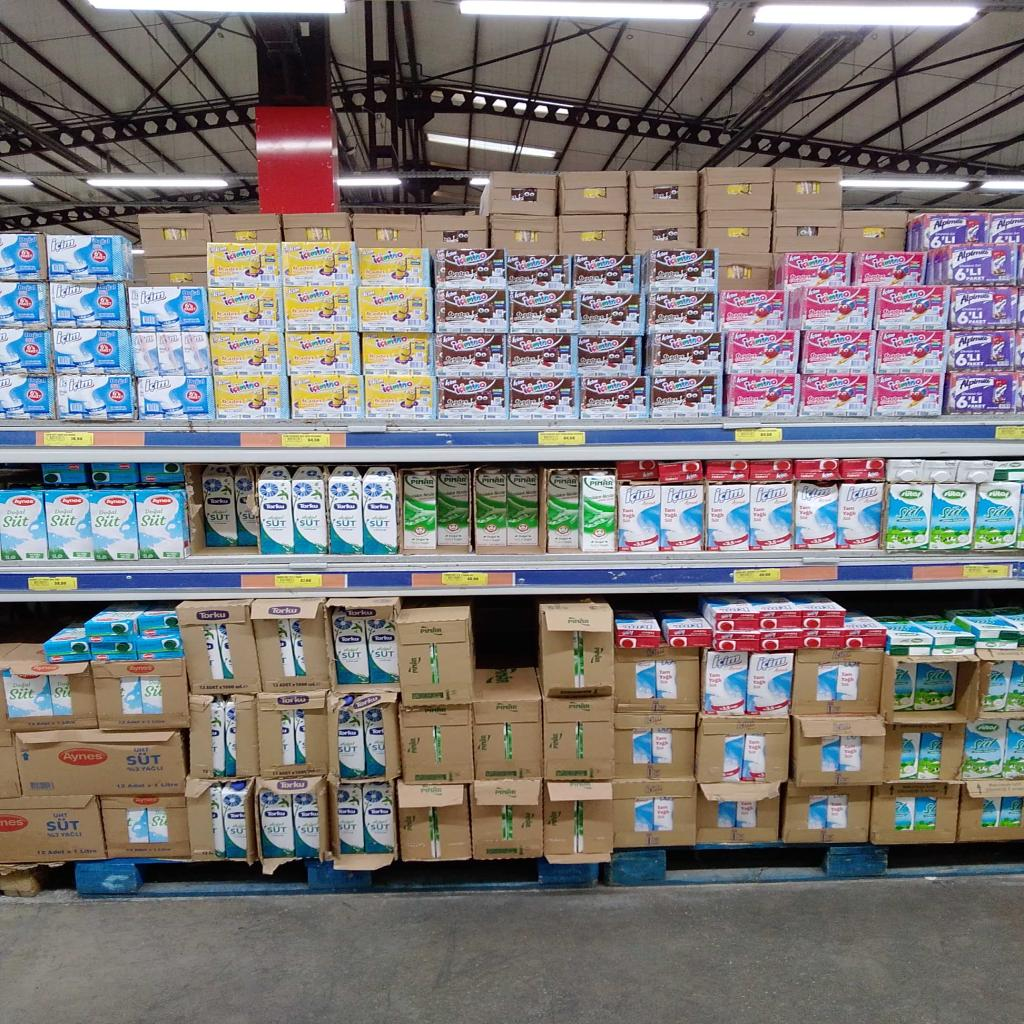price_tag: (733, 568, 781, 583), (282, 433, 330, 448), (43, 432, 94, 446), (538, 431, 585, 446), (28, 577, 77, 591), (964, 564, 1009, 579), (735, 428, 782, 442), (275, 574, 322, 588), (441, 572, 488, 586), (995, 426, 1023, 440)
product: (47, 372, 141, 420), (136, 373, 218, 423), (135, 487, 190, 561), (46, 235, 133, 281), (205, 239, 284, 289), (51, 326, 131, 374), (128, 286, 214, 330), (875, 281, 946, 334), (646, 376, 726, 422), (432, 376, 510, 423), (44, 488, 94, 561), (430, 285, 508, 331), (51, 282, 128, 328), (0, 488, 48, 561), (868, 330, 946, 374), (91, 491, 140, 561), (876, 367, 943, 418), (800, 283, 872, 330), (280, 242, 362, 283), (972, 482, 1021, 550), (508, 290, 582, 335), (803, 327, 872, 375), (836, 481, 883, 551), (434, 332, 508, 376), (724, 373, 798, 417), (258, 467, 295, 554), (884, 483, 932, 550), (578, 291, 649, 336), (131, 334, 217, 371), (645, 290, 715, 335), (929, 483, 976, 550), (507, 374, 580, 417), (292, 466, 328, 553), (362, 467, 398, 554), (358, 247, 436, 287), (400, 469, 437, 553), (805, 372, 874, 417), (706, 482, 751, 550), (545, 468, 581, 553), (716, 289, 796, 327), (659, 484, 703, 553), (508, 333, 577, 377), (434, 248, 508, 289), (648, 249, 720, 291), (949, 286, 1017, 330), (794, 481, 837, 550), (646, 334, 724, 372), (944, 374, 1018, 414), (329, 467, 363, 554), (750, 482, 793, 550), (575, 331, 644, 373), (618, 483, 659, 553), (728, 328, 794, 371), (581, 470, 615, 553), (948, 245, 1016, 286), (574, 253, 643, 292), (950, 331, 1014, 373), (0, 373, 54, 419), (475, 469, 507, 546), (592, 377, 648, 420), (0, 328, 51, 375), (507, 470, 538, 547), (508, 256, 576, 291), (858, 252, 928, 286), (0, 281, 48, 328), (781, 253, 849, 286), (0, 233, 46, 280), (920, 218, 986, 248), (984, 205, 1024, 245)
